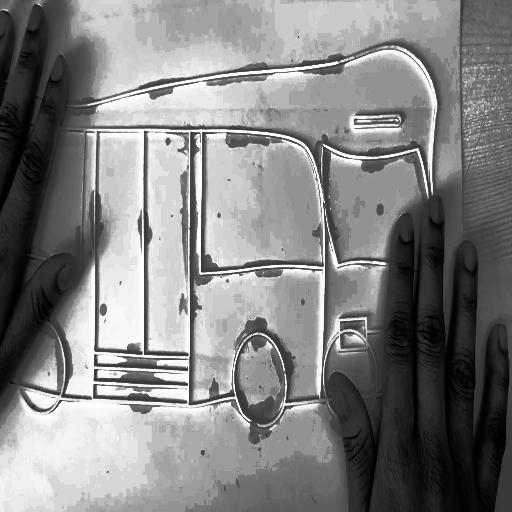bus: (0, 33, 458, 431)
